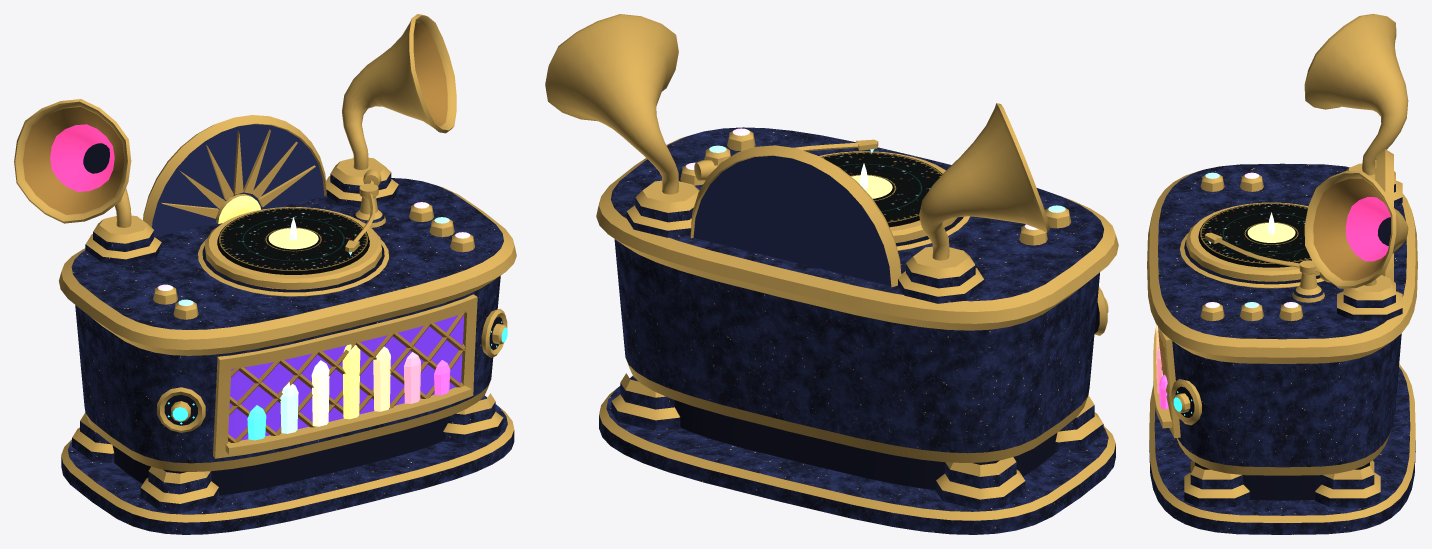
The model's file is dj_gramophone.glb.
The picture shows the model from 3 angles, left to right: view 1: azimuth 30°, elevation 25°; view 2: azimuth 150°, elevation 25°; view 3: azimuth 270°, elevation 25°; orthographic projection. The views are drawn at different scales.
Parts seen in each view (by area): view 1: DJGramophone, TurntablePlatter; view 2: DJGramophone, TurntablePlatter; view 3: DJGramophone, TurntablePlatter.
Boxes of the visible parts, x1,y1,x2,y2 form: DJGramophone: (14, 14, 516, 534); TurntablePlatter: (205, 207, 381, 289); DJGramophone: (545, 14, 1118, 534); TurntablePlatter: (819, 151, 957, 242); DJGramophone: (1147, 14, 1417, 534); TurntablePlatter: (1186, 202, 1319, 281).
Bounding box in the file's own units: 2.21 × 1.77 × 1.24.
20 materials, 2 textured.
